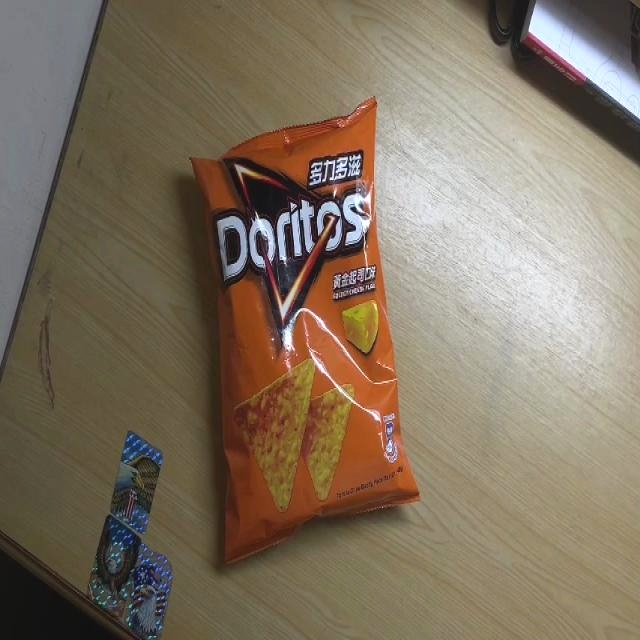Doritos: (188, 98, 420, 567)
